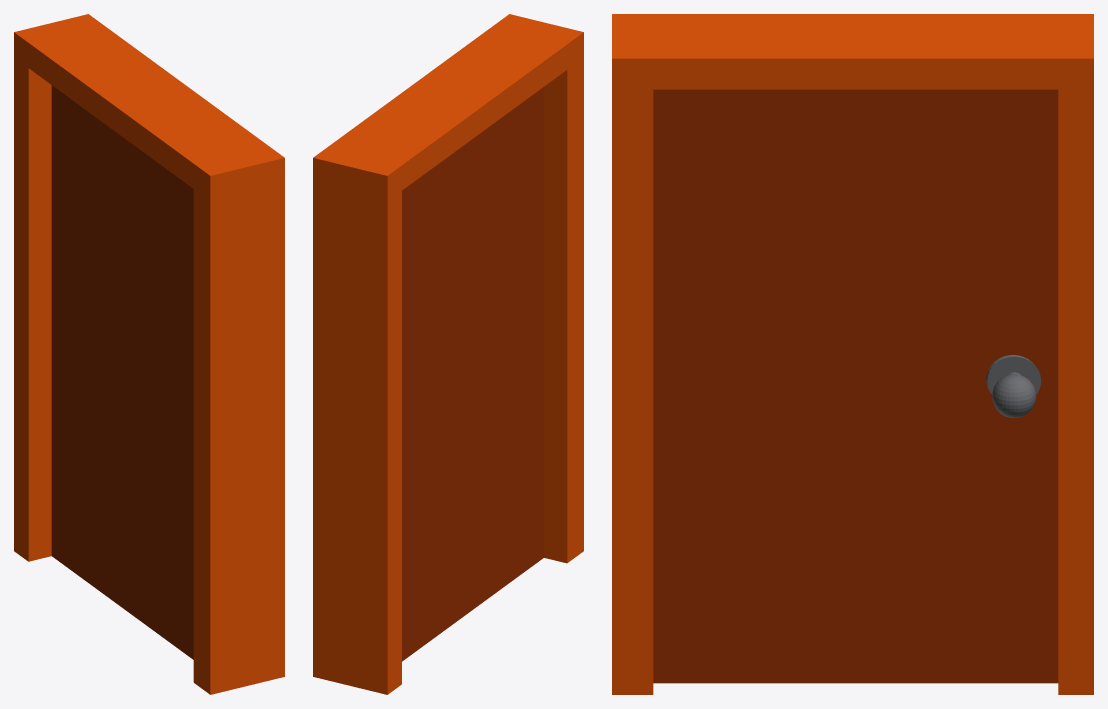
Rendered from Porta.fbx.
3 views of the same model, side by side, from view 1: azimuth 30°, elevation 25°; view 2: azimuth 150°, elevation 25°; view 3: azimuth 270°, elevation 25° (orthographic). The views are drawn at different scales.
Visible parts, largest first — view 1: Cube; view 2: Cube; view 3: Cube, Sphere.
Part boxes in pixels (x1,y1,x2,y2): Cube: (14,14,284,694); Cube: (313,14,583,694); Cube: (612,14,1093,694); Sphere: (986,355,1041,417).
Bounding box in the file's own units: 201 × 1033 × 709.
